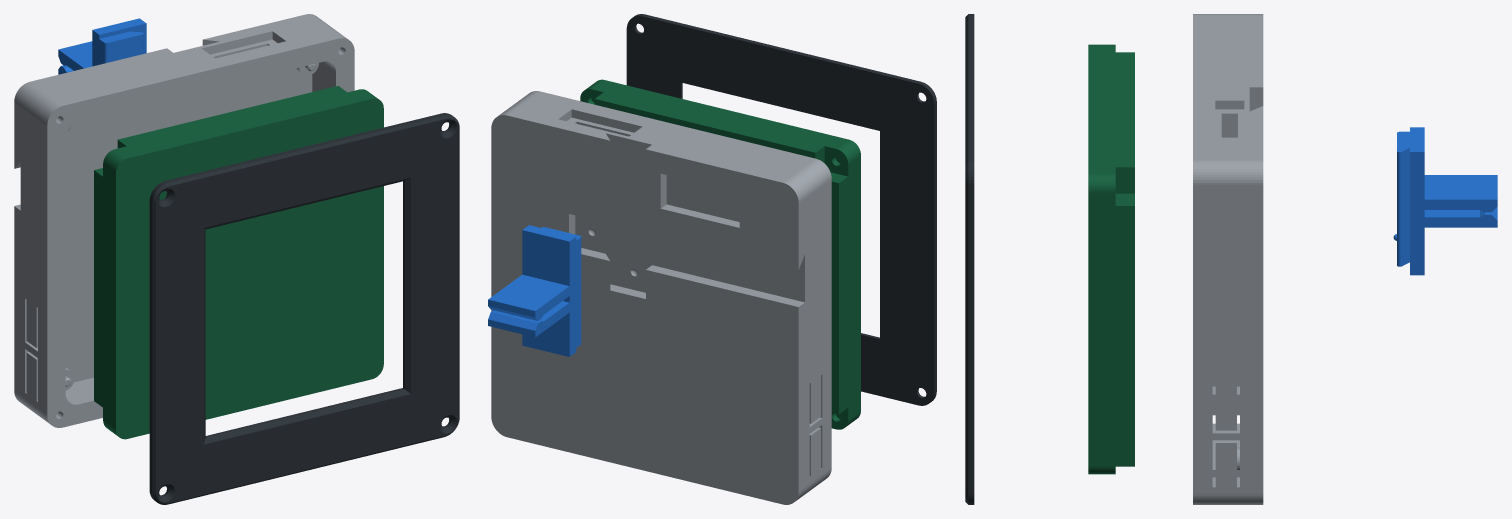
File: assembly_exploded.glb
The picture shows the model from 3 angles, left to right: view 1: azimuth 30°, elevation 25°; view 2: azimuth 150°, elevation 25°; view 3: azimuth 270°, elevation 25°; orthographic projection. The views are drawn at different scales.
Parts seen in each view (by area): view 1: board_dummy, front_bezel, body, vent_clip; view 2: body, front_bezel, board_dummy, vent_clip; view 3: body, board_dummy, vent_clip, front_bezel.
Part boxes in pixels (x1,y1,x2,y2): board_dummy: (94, 86, 383, 439); front_bezel: (149, 113, 459, 504); body: (14, 14, 354, 427); vent_clip: (58, 18, 146, 74); body: (491, 91, 831, 504); front_bezel: (626, 14, 936, 405); board_dummy: (580, 79, 860, 429); vent_clip: (488, 225, 581, 356); body: (1193, 14, 1263, 504); board_dummy: (1088, 44, 1134, 474); vent_clip: (1393, 127, 1497, 275); front_bezel: (965, 14, 974, 504).
Size of the model in its own units: 0.078 by 0.078 by 0.1095.
